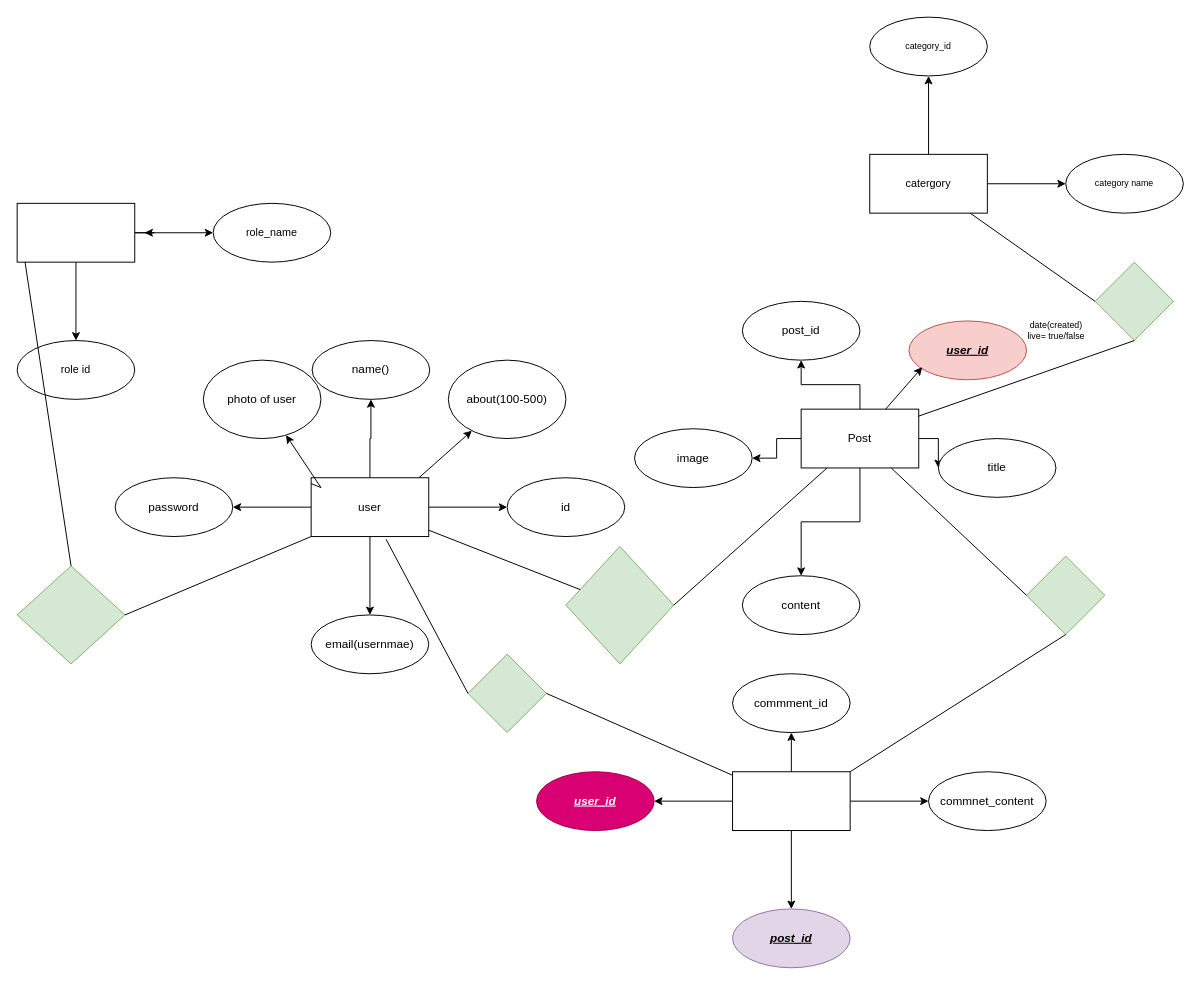
The diagram is 1201 pixels wide and 985 high, and some of its shapes have lost their labels. Each missing label, with the centre of its shape:
can create multiple [posts: pixel 619 604
category has many poost(many to many): pixel 1134 301
commment: pixel 791 801
post can have many commnent: pixel 1065 595
Role: pixel 75 232
user an have many role and a role can have many userr: pixel 70 614
user has commnet(onr to many): pixel 506 693
